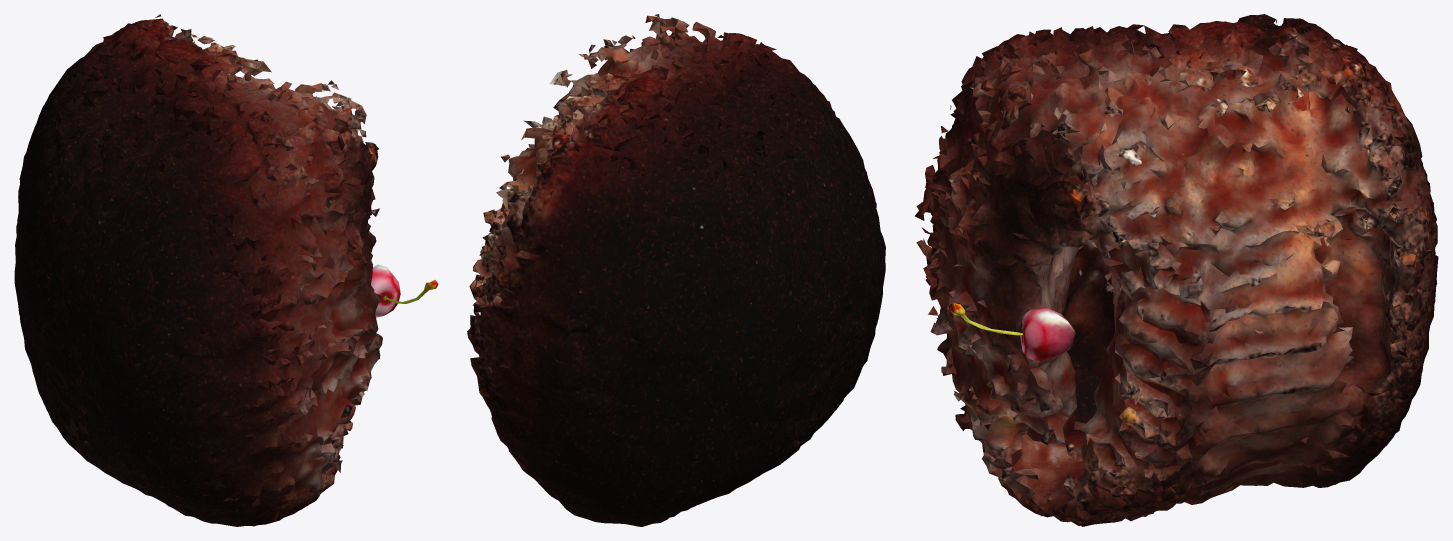
Rendered from cake_1.glb.
3 renders of one model, left to right at view 1: azimuth 30°, elevation 25°; view 2: azimuth 150°, elevation 25°; view 3: azimuth 270°, elevation 25°, orthographic. The views are drawn at different scales.
Visible parts, largest first — view 1: model, model.002; view 2: model; view 3: model, model.002.
Boxes of the visible parts, box(x1,y1,x2,y2) form: model: box(14, 14, 382, 526); model.002: box(371, 264, 438, 317); model: box(467, 14, 885, 526); model: box(915, 14, 1438, 526); model.002: box(950, 303, 1075, 360).
Size of the model in its own units: 0.6678 by 0.8343 by 0.8291.
Materials: 2 (2 with a texture image).
